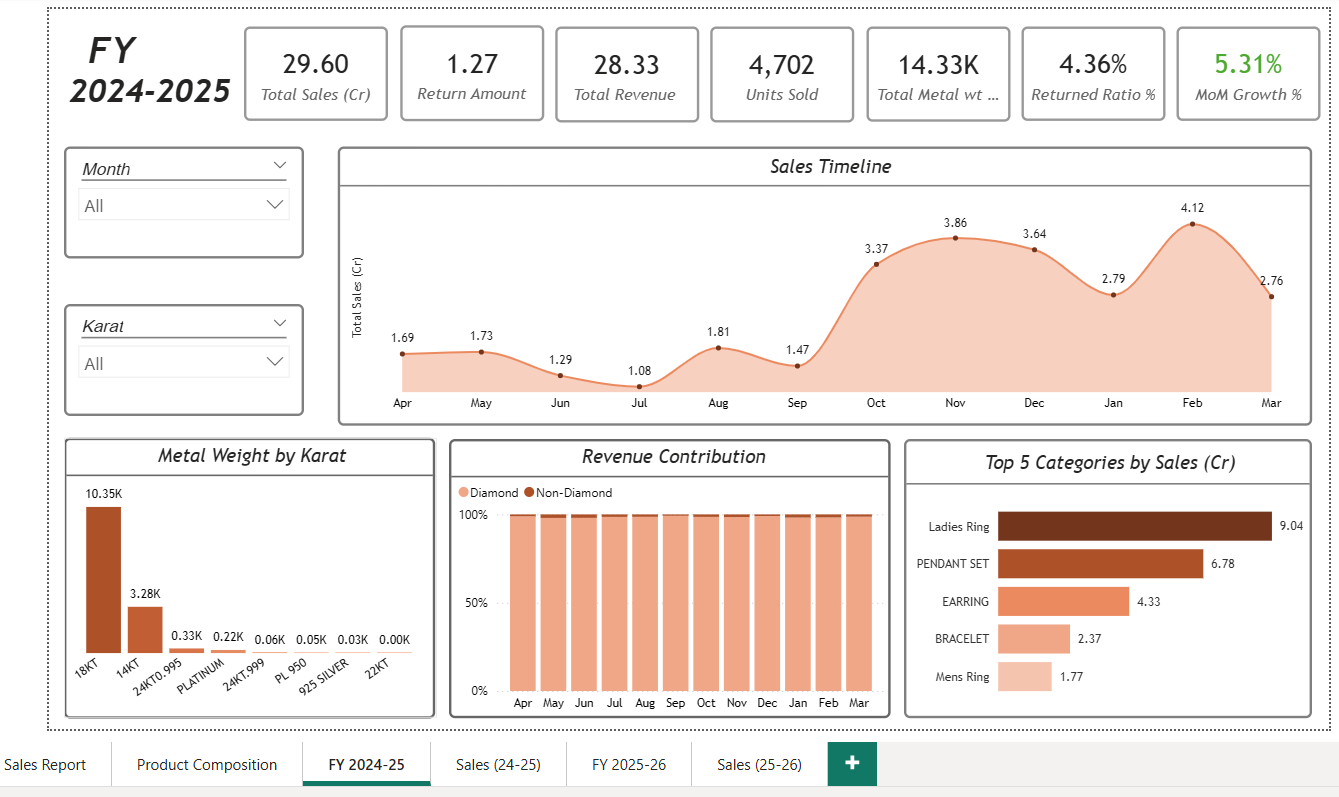

The dashboard page shown, as its layout file describes it:
{"tool":"powerbi","page":{"name":"FY 2024-25","canvas":[1280,720],"ordinal":2},"visuals":[{"type":"textbox","box":[0,5.8,260.9,117.4],"z":0},{"type":"lineChart","title":"Sales Timeline","fields":{"Category":["Date Table.Month"],"Y":["Table1.Scaled Total Revenue"]},"box":[288.3,137.7,974,279.2],"z":1000},{"type":"card","fields":{"Values":["Table1.Scaled Total Revenue"]},"box":[194.5,17.3,144,94.2],"z":2000,"group":"g1"},{"type":"barChart","title":"Top 5 Categories by Sales (Cr)","fields":{"Category":["Table1.Category"],"Y":["Table1.Scaled Total Revenue"]},"box":[854.5,429.9,407.8,279.2],"z":3000},{"type":"card","fields":{"Values":["Table1.MoM Growth %"]},"box":[1126.4,17.3,144,94.2],"z":4000,"group":"g1"},{"type":"columnChart","title":"Metal Weight by Karat","fields":{"Category":["Table1.Karat"],"Y":["Sum(Table1.Net wt)"]},"box":[15.6,428.6,371.4,280.5],"z":5000},{"type":"card","fields":{"Values":["Table1.Units Sold"]},"box":[660.7,17.3,144,95.7],"z":6000,"group":"g1"},{"type":"slicer","fields":{"Values":["Date Table.Month"]},"box":[15.6,137.7,240,112],"z":7000},{"type":"card","fields":{"Values":["Sum(Table1.Net wt)"]},"box":[816.6,17.4,144,95],"z":8000,"group":"g1"},{"type":"hundredPercentStackedColumnChart","title":"Revenue Contribution ","fields":{"Category":["Date Table.Month"],"Series":["Table1.Diamond Presence"],"Y":["Table1.Scaled Total Revenue"]},"box":[400,429.9,441.6,279.2],"z":9000},{"type":"slicer","fields":{"Values":["Table1.Karat"]},"box":[15.6,294.8,240,112],"z":10000},{"type":"card","fields":{"Values":["Sales.Scaled Return amount"]},"box":[350.4,15.9,144,95.7],"z":11000,"group":"g1"},{"type":"card","fields":{"Values":["Sales.Total Revenue"]},"box":[506.3,17.3,144,95.7],"z":12000,"group":"g1"},{"type":"card","fields":{"Values":["Sales.Returned Ratio %"]},"box":[971.9,17.3,144,94.2],"z":13000,"group":"g1"},{"type":"group","id":"g1","title":"Group 1","box":[194.5,15.9,1075.9,97.1],"z":13001}]}

Visuals, with their boxes on the page's 1280x720 design canvas (x1, y1, x2, y2). These are canvas units, not pixel positions in the 1339x797 screenshot, which may show the page scaled, cropped or inside an application window:
textbox: box(0, 6, 261, 123)
"Sales Timeline" lineChart: box(288, 138, 1262, 417)
card - Table1.Scaled Total Revenue: box(194, 17, 338, 112)
"Top 5 Categories by Sales (Cr)" barChart: box(854, 430, 1262, 709)
card - Table1.MoM Growth %: box(1126, 17, 1270, 112)
"Metal Weight by Karat" columnChart: box(16, 429, 387, 709)
card - Table1.Units Sold: box(661, 17, 805, 113)
slicer - Date Table.Month: box(16, 138, 256, 250)
card - Sum(Table1.Net wt): box(817, 17, 961, 112)
"Revenue Contribution " hundredPercentStackedColumnChart: box(400, 430, 842, 709)
slicer - Table1.Karat: box(16, 295, 256, 407)
card - Sales.Scaled Return amount: box(350, 16, 494, 112)
card - Sales.Total Revenue: box(506, 17, 650, 113)
card - Sales.Returned Ratio %: box(972, 17, 1116, 112)
"Group 1" group: box(194, 16, 1270, 113)
